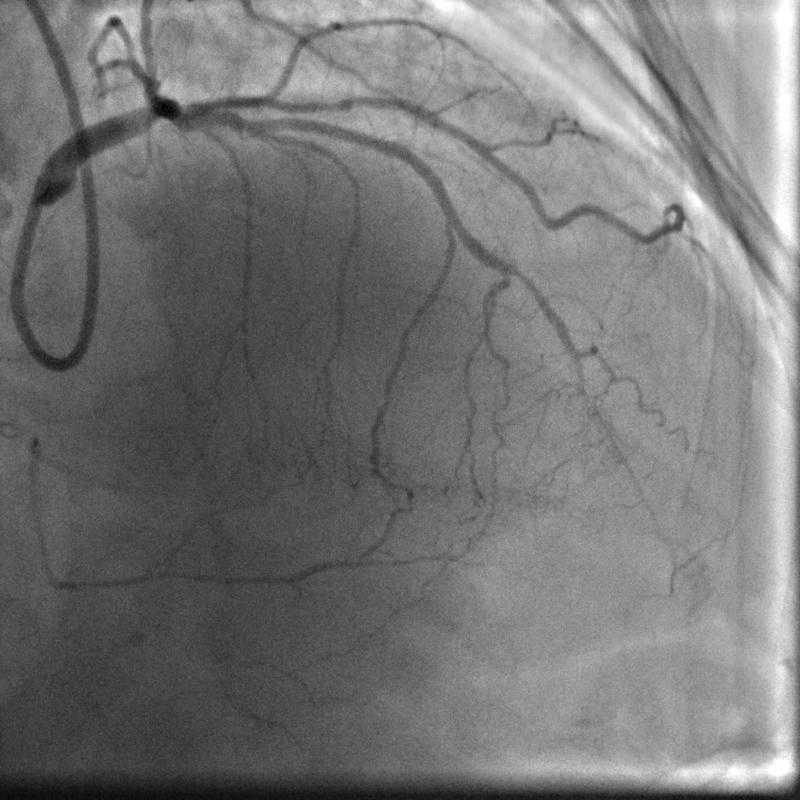Stenosis: (128, 90, 172, 142)
